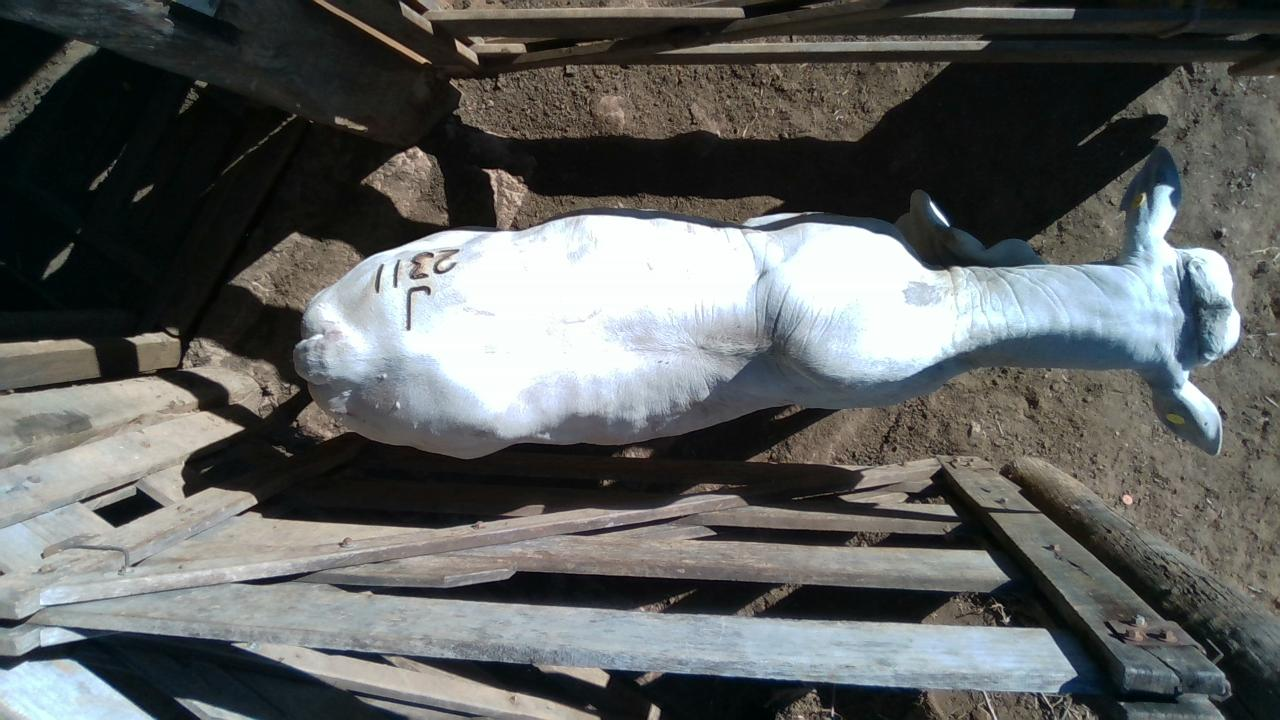cattle: (291, 143, 1241, 467)
